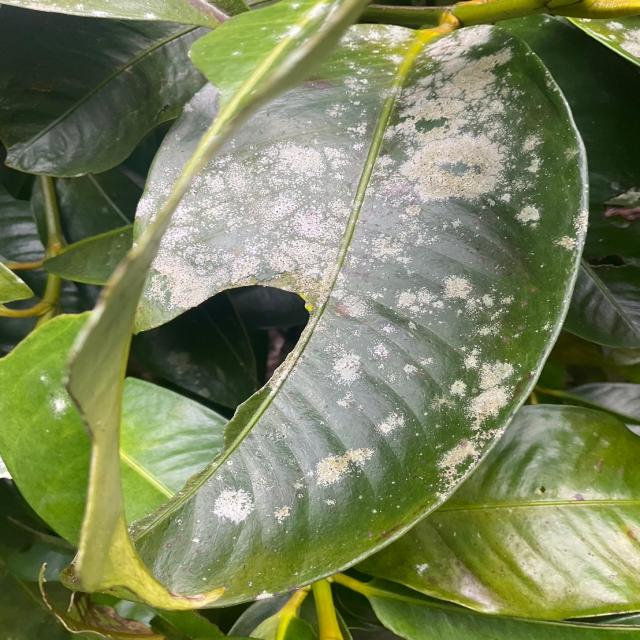Leaf Spot: (368, 20, 548, 220), (368, 262, 520, 493), (241, 138, 343, 284), (141, 129, 222, 304), (300, 440, 412, 494), (202, 476, 300, 532)
